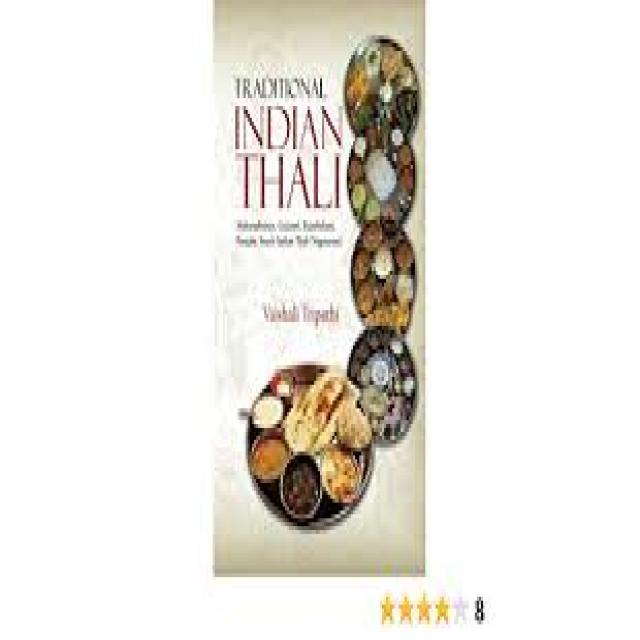curd: (366, 146, 400, 200)
raita: (363, 147, 401, 201)
roti: (289, 363, 369, 460)
sambar-rasam: (239, 429, 299, 487)
sweet: (243, 430, 295, 485)
